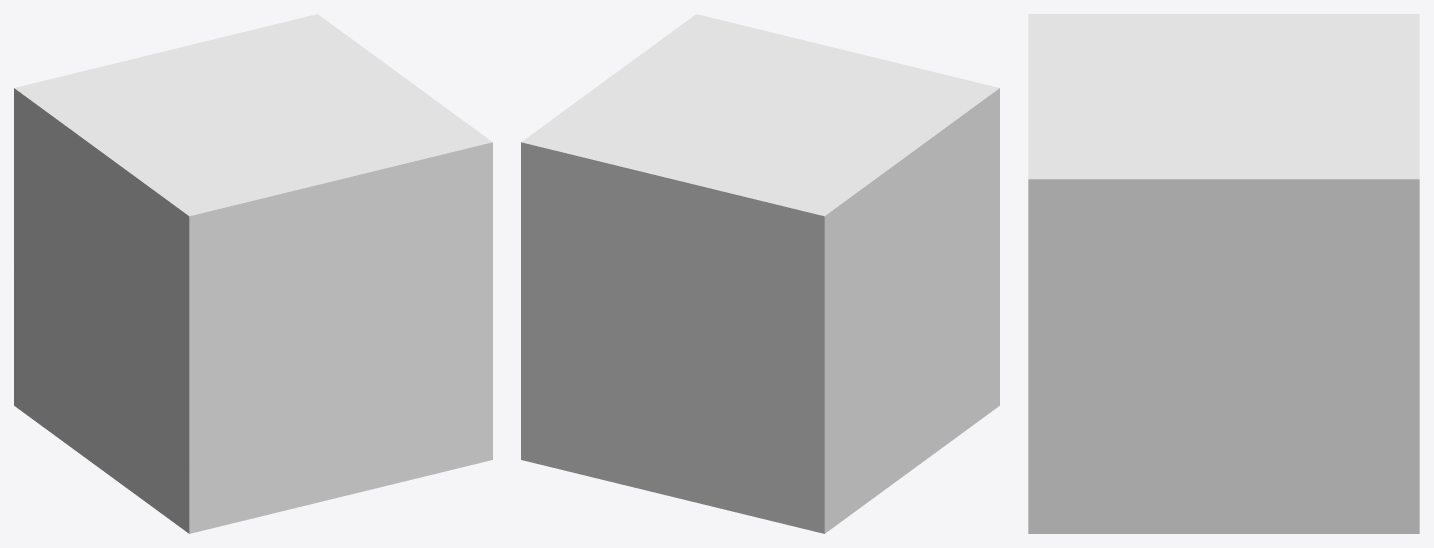
File: SpotLightBox.obj
The picture shows the model from 3 angles, left to right: view 1: azimuth 30°, elevation 25°; view 2: azimuth 150°, elevation 25°; view 3: azimuth 270°, elevation 25°; orthographic projection. The views are drawn at different scales.
Parts seen in each view (by area): view 1: 立方体; view 2: 立方体; view 3: 立方体.
Part boxes in pixels (x1=…): 立方体: x1=14, y1=14, x2=492, y2=533; 立方体: x1=521, y1=14, x2=999, y2=533; 立方体: x1=1028, y1=14, x2=1419, y2=533.
Size of the model in its own units: 2 by 2 by 2.
